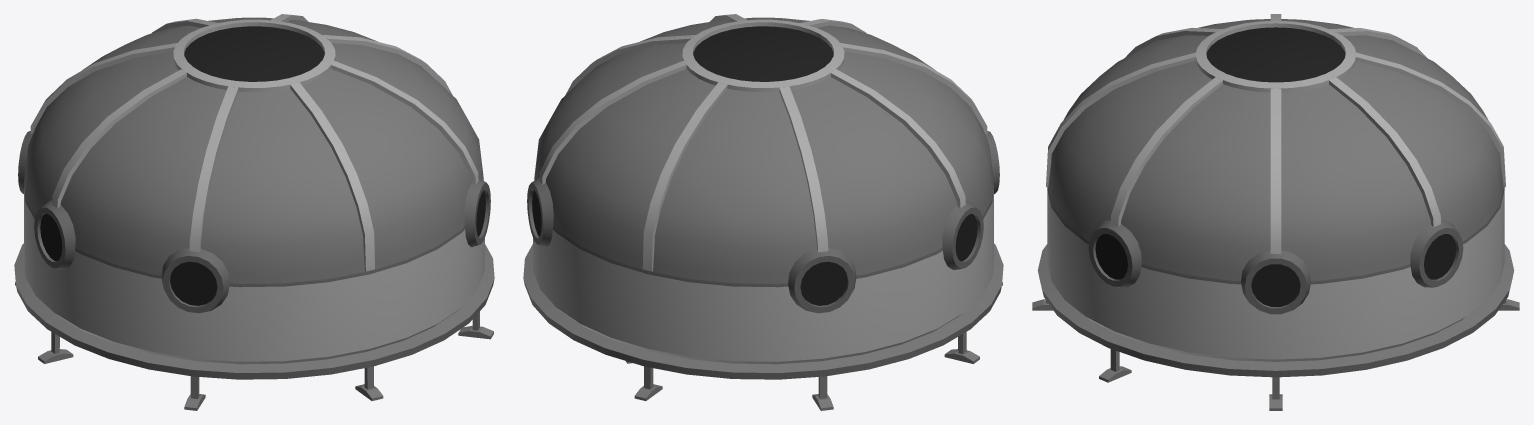
3 views of the same model, side by side, from view 1: azimuth 30°, elevation 25°; view 2: azimuth 150°, elevation 25°; view 3: azimuth 270°, elevation 25° (orthographic).
Parts seen in each view (by area): view 1: Base_Large; view 2: Base_Large; view 3: Base_Large.
Part boxes in pixels (x1,y1,x2,y2): Base_Large: (14,14,494,410); Base_Large: (523,14,1003,410); Base_Large: (1032,14,1519,410).
Bounding box in the file's own units: 8.53 × 4.97 × 8.53.
Materials: 1 (1 with a texture image).
